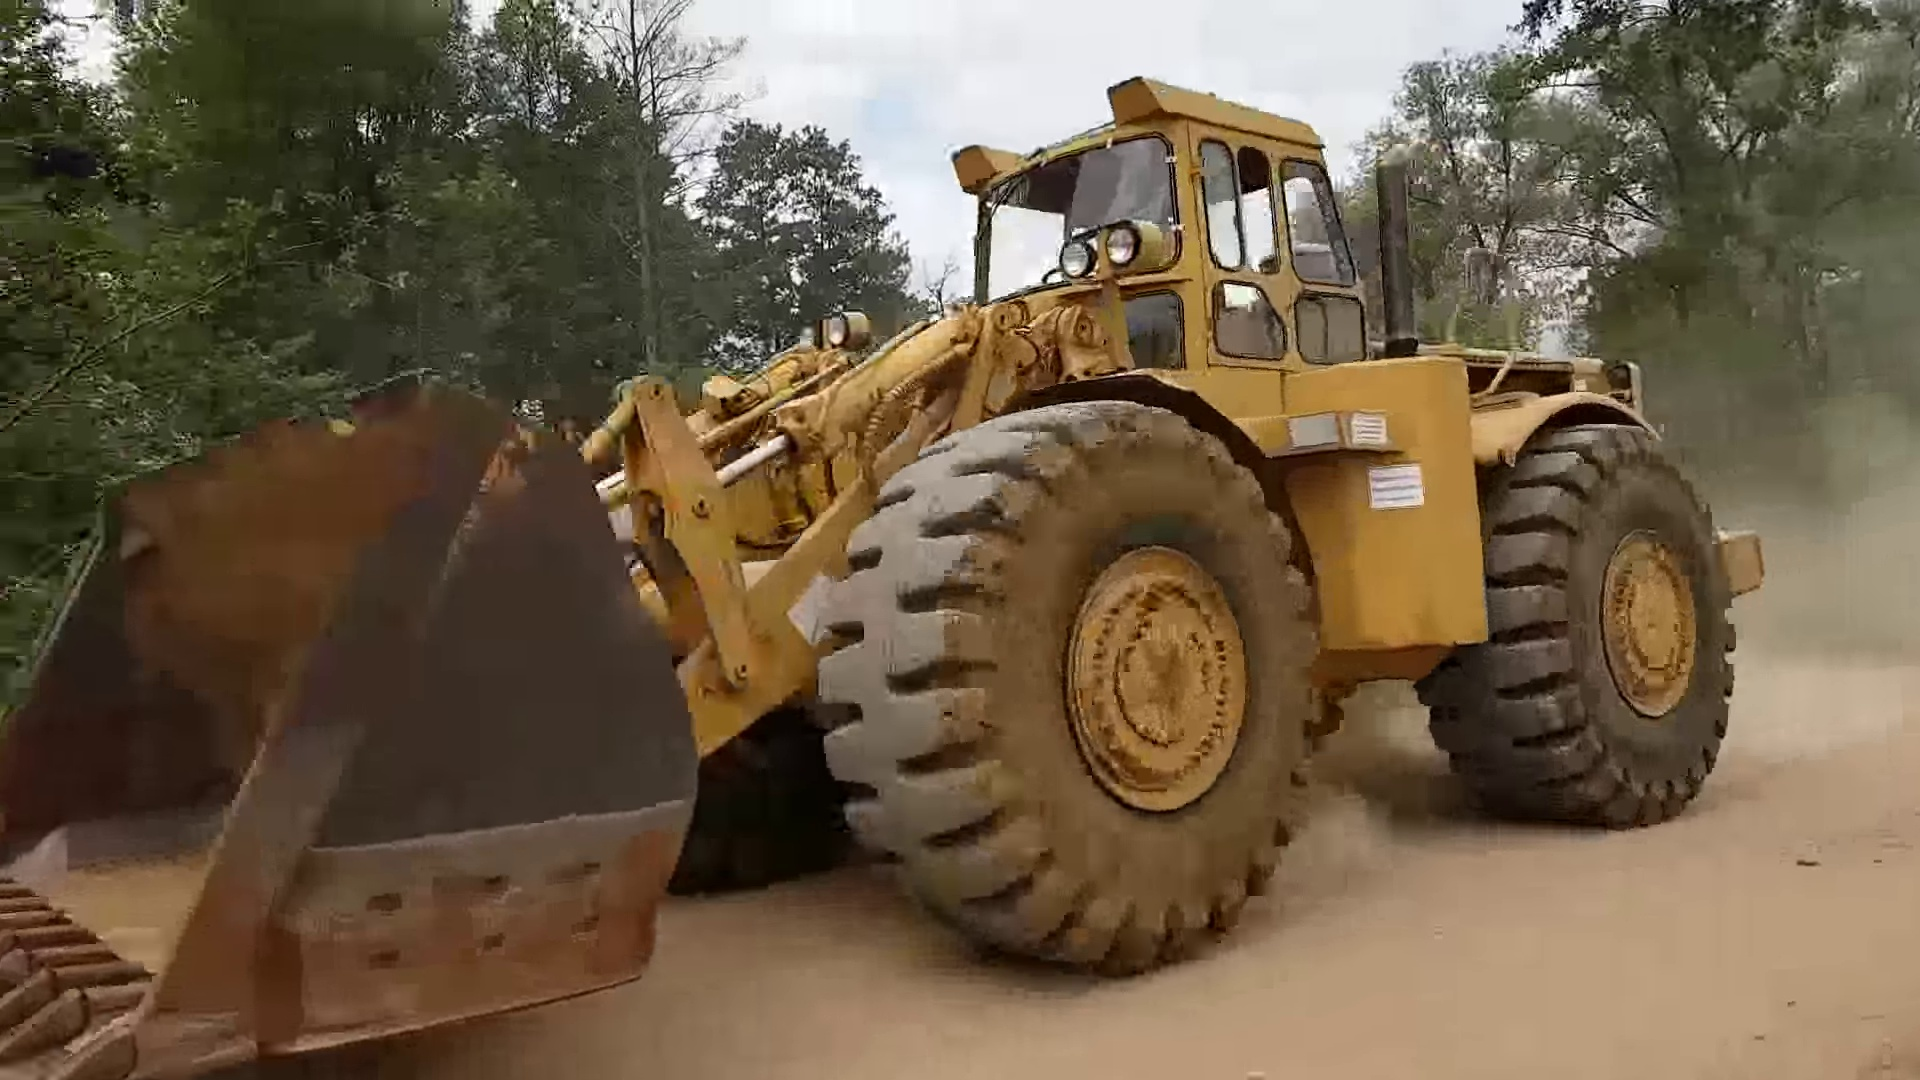wheel loader: (18, 76, 1770, 1068)
